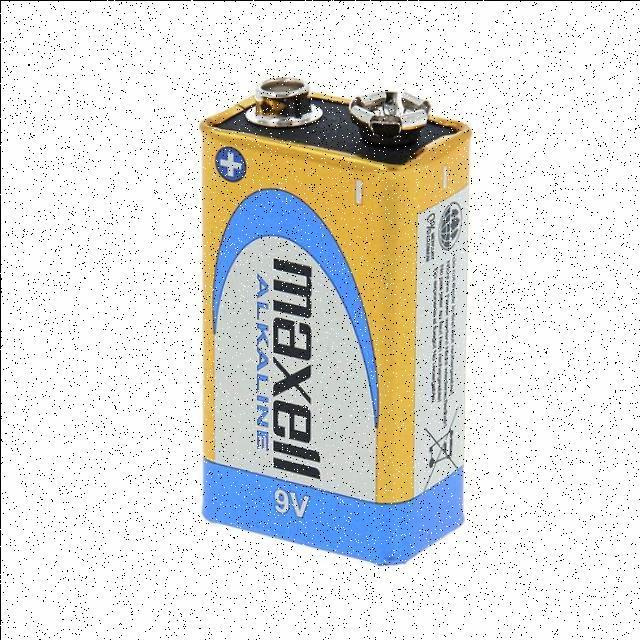9V: (199, 78, 472, 565)
